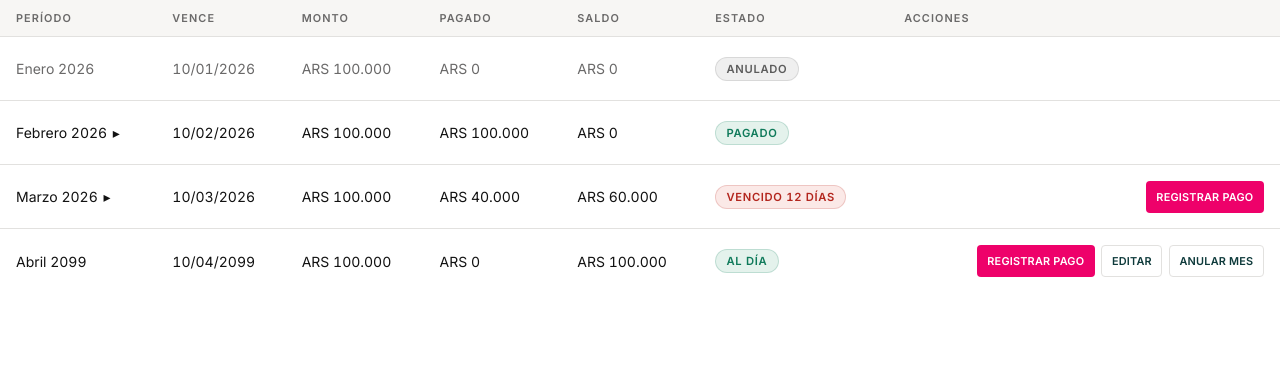
it: sin email configurado el botón queda deshabilitado con explicación
The image size is (1280, 365).
Click the button "Febrero 2026 ▸".
click(68, 133)  # box [16,124,120,141]
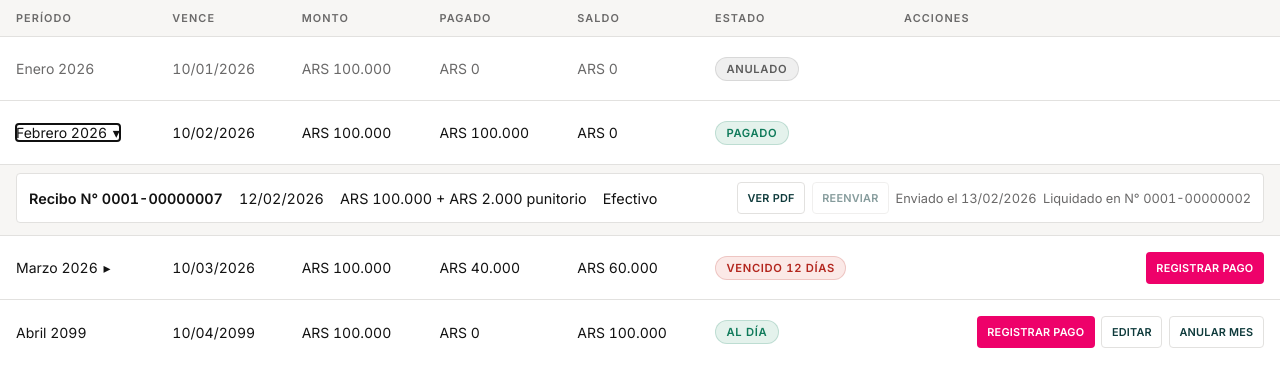
Result: the button "Reenviar" is disabled at [812,182,889,214]
